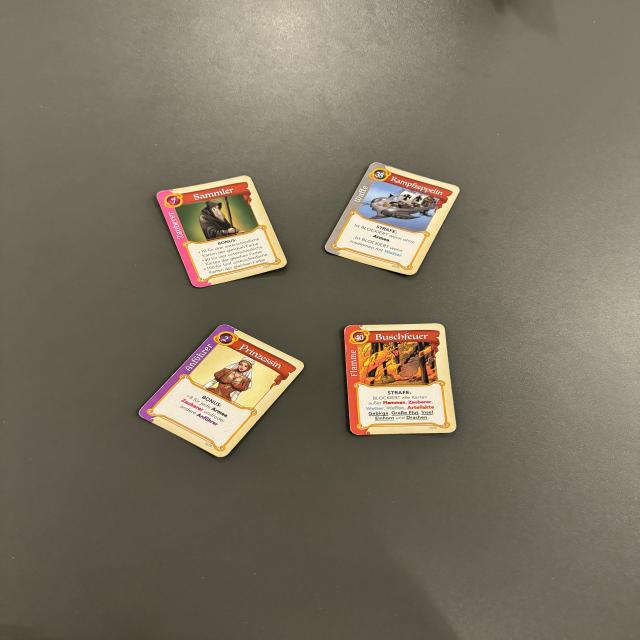Collector: (153, 174, 288, 291)
Princess: (133, 324, 308, 462)
War Dirigable: (322, 161, 462, 276)
Wildfire: (344, 322, 459, 436)
